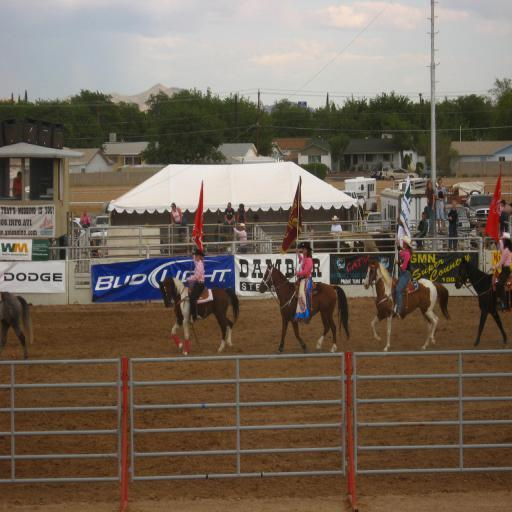horse: (258, 262, 349, 356), (364, 256, 450, 350), (158, 277, 240, 358), (452, 252, 512, 347), (0, 290, 34, 362)
